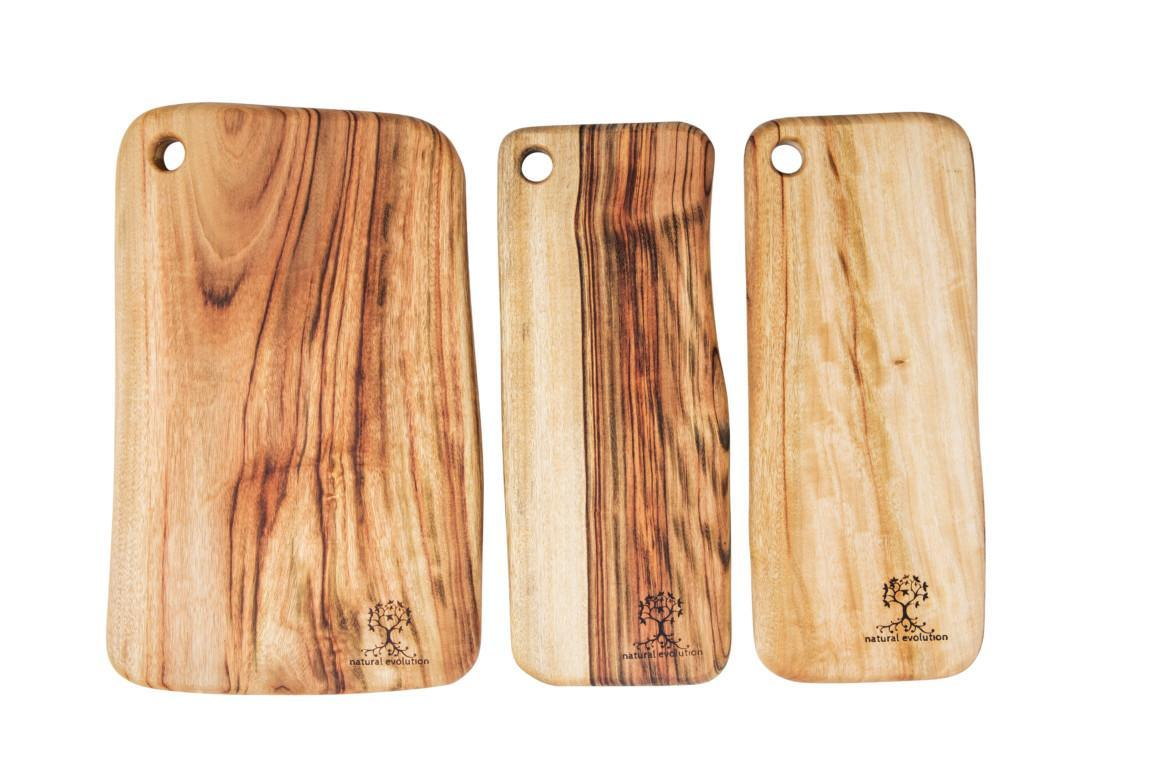gloved_hand: (90, 94, 492, 705)
